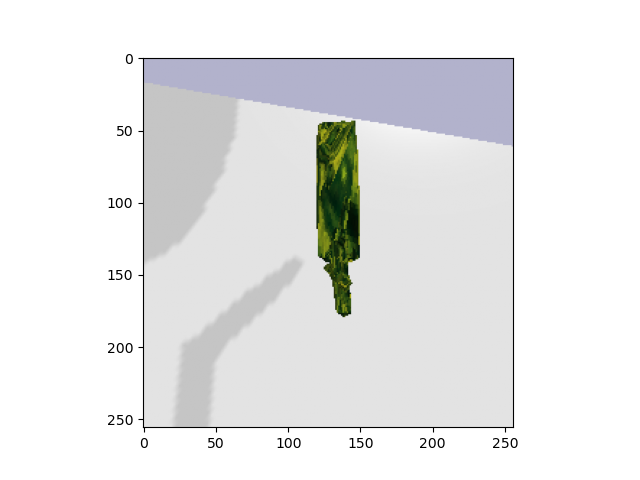v249b387_108: (304, 113, 370, 325)
